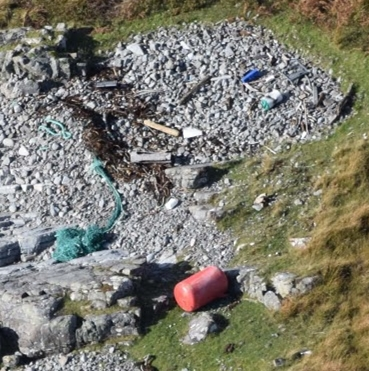net: (51, 161, 125, 265)
scattered_barrel: (237, 63, 288, 114)
straight_bar: (173, 70, 216, 107), (125, 144, 176, 167), (140, 113, 181, 140)
white_in_green: (157, 239, 248, 328), (27, 101, 85, 152), (171, 112, 212, 149)
